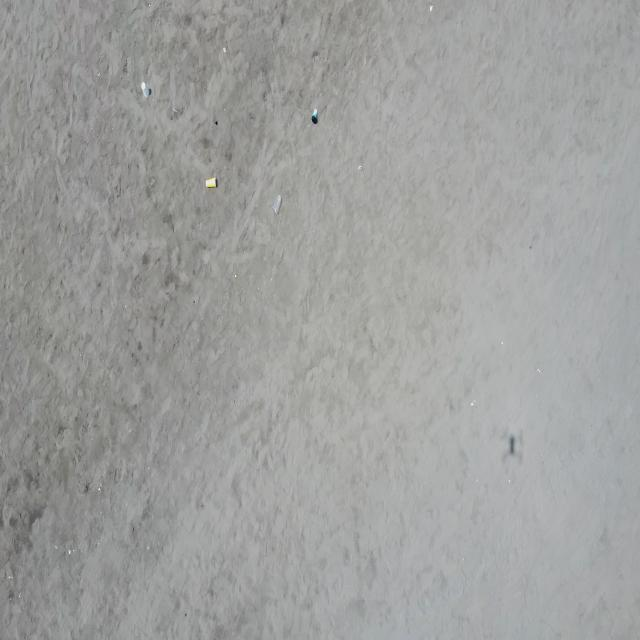takeaway-cup: (272, 194, 281, 214), (141, 82, 150, 98), (206, 177, 217, 188), (312, 109, 318, 123)
